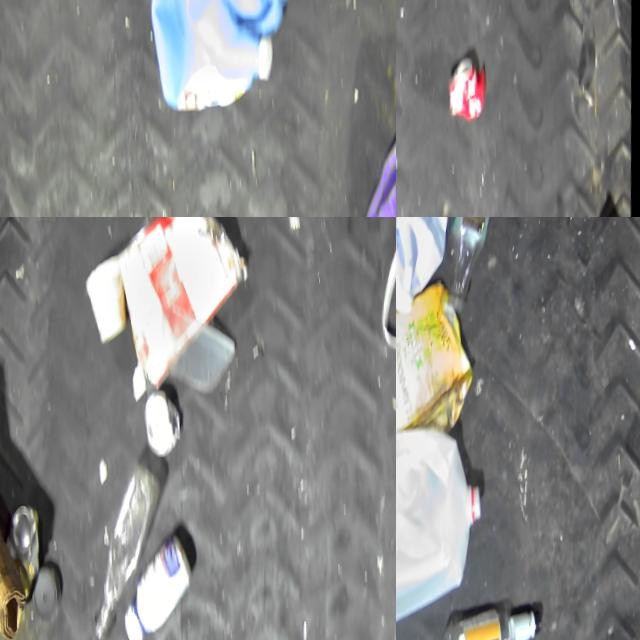can: (445, 58, 489, 133), (9, 502, 46, 585)
milk_jug: (396, 423, 490, 633), (396, 217, 470, 321)
non_white_jug: (144, 0, 324, 122)
plastic_bottle: (89, 464, 168, 640), (442, 217, 506, 318)
